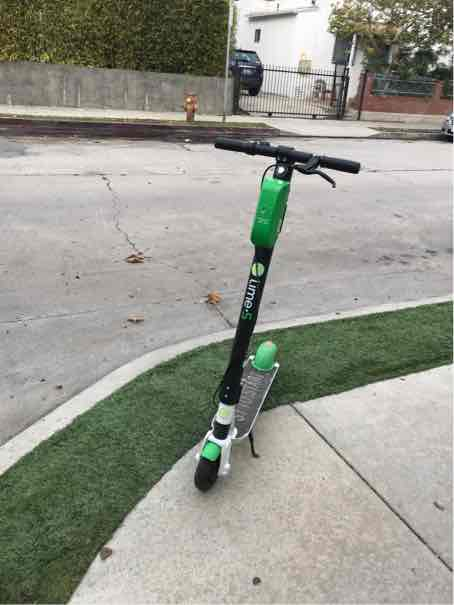scooter: (187, 132, 370, 511)
